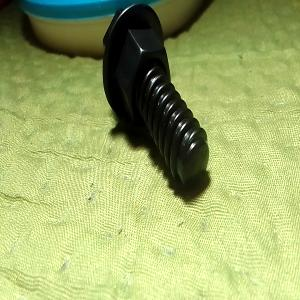parafuso: (101, 3, 210, 189)
